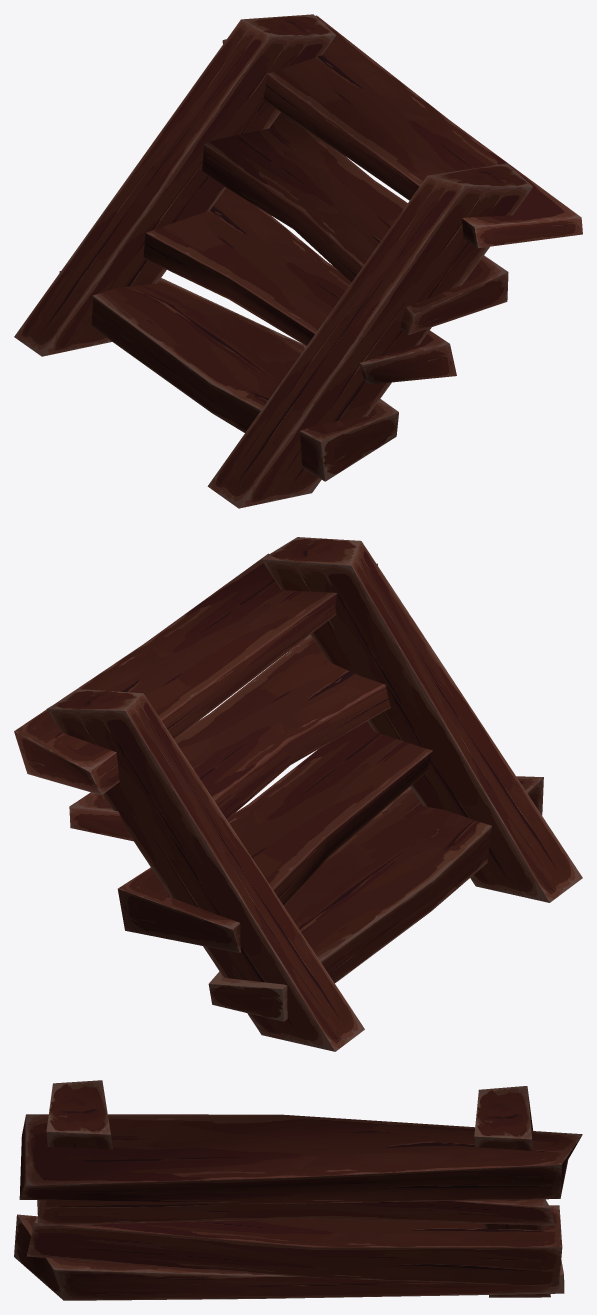
File: SM_PROP_stairs_wood_03.fbx
3 renders of one model, top to bottom at view 1: azimuth 30°, elevation 25°; view 2: azimuth 150°, elevation 25°; view 3: azimuth 270°, elevation 25°, orthographic. The views are drawn at different scales.
Visible parts, largest first — view 1: SM_PROP_stairs_wood_03; view 2: SM_PROP_stairs_wood_03; view 3: SM_PROP_stairs_wood_03.
Boxes of the visible parts, left/top/right/bottom form: SM_PROP_stairs_wood_03: left=14, top=14, right=582, bottom=508; SM_PROP_stairs_wood_03: left=14, top=537, right=582, bottom=1051; SM_PROP_stairs_wood_03: left=14, top=1080, right=582, bottom=1300.
Size of the model in its own units: 128 by 103 by 186.
